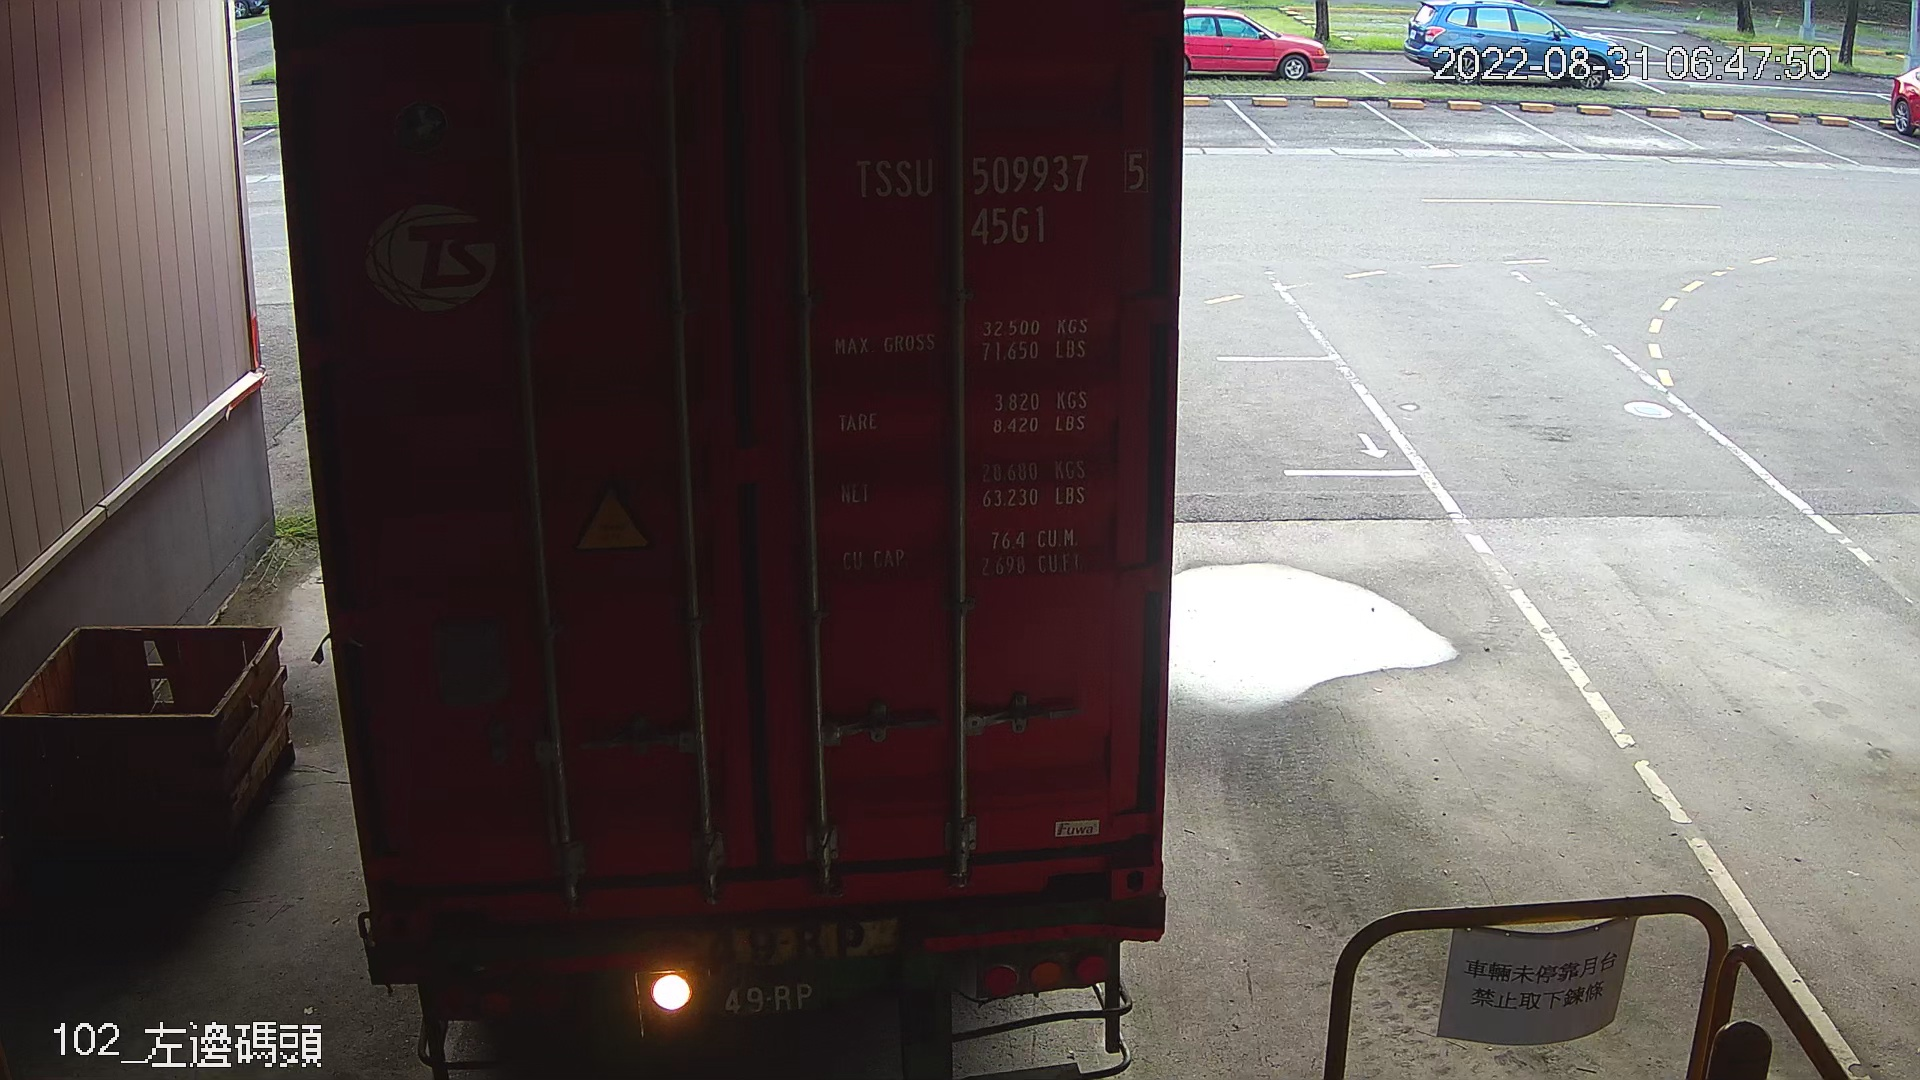container: (845, 142, 1156, 255)
